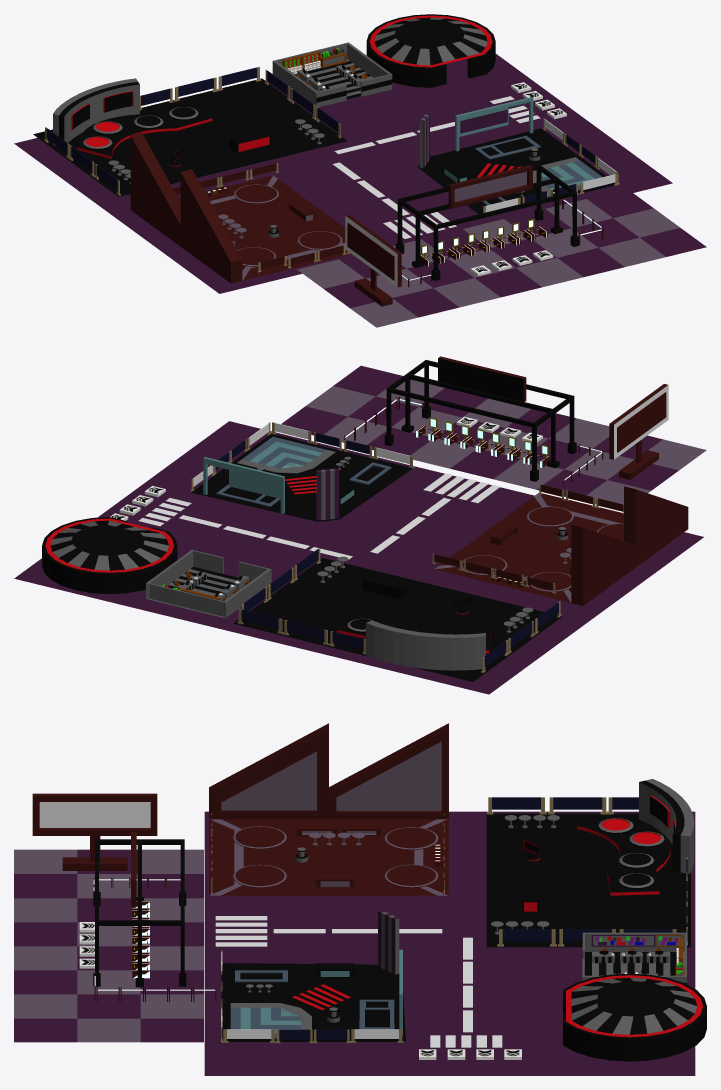
The model's file is Level (05).fbx.
3 renders of one model, top to bottom at view 1: azimuth 30°, elevation 25°; view 2: azimuth 150°, elevation 25°; view 3: azimuth 270°, elevation 25°, orthographic. The views are drawn at different scales.
Visible parts, largest first — view 1: Plane.009, Plane.011, Plane, Circle, Plane.010, Cube.069, Cube.022, Plane.004, Cube.139, Cube.042, Cube.074, Cube (+12 smaller); view 2: Plane.009, Plane.011, Plane, Circle, Plane.010, Cube.069, Plane.004, Cube, Cube.139, Cube.042, Cube.022, Cube.074 (+12 smaller); view 3: Plane.009, Plane.011, Plane, Plane.010, Circle, Cube.042, Cube.022, Plane.004, Cube.074, Cube.069, Cube, Cube.139 (+22 smaller).
Part boxes in pixels (x1=…): Plane.009: x1=14, y1=54, x2=672, y2=293; Plane.011: x1=297, y1=189, x2=706, y2=327; Plane: x1=33, y1=78, x2=346, y2=196; Circle: x1=366, y1=14, x2=495, y2=87; Plane.010: x1=178, y1=175, x2=351, y2=280; Cube.069: x1=395, y1=164, x2=578, y2=280; Cube.022: x1=180, y1=169, x2=242, y2=283; Plane.004: x1=418, y1=128, x2=614, y2=214; Cube.139: x1=272, y1=42, x2=392, y2=107; Cube.042: x1=130, y1=132, x2=180, y2=246; Cube.074: x1=345, y1=215, x2=401, y2=306; Cube: x1=53, y1=78, x2=139, y2=145; Plane.009: x1=14, y1=421, x2=703, y2=694; Plane.011: x1=281, y1=365, x2=706, y2=504; Plane: x1=233, y1=558, x2=562, y2=681; Circle: x1=42, y1=517, x2=177, y2=594; Plane.010: x1=434, y1=493, x2=623, y2=602; Cube.069: x1=384, y1=356, x2=576, y2=481; Plane.004: x1=191, y1=434, x2=412, y2=521; Cube: x1=366, y1=618, x2=485, y2=670; Cube.139: x1=146, y1=549, x2=271, y2=618; Cube.042: x1=571, y1=525, x2=635, y2=605; Cube.022: x1=624, y1=486, x2=688, y2=567; Cube.074: x1=609, y1=384, x2=668, y2=479; Plane.009: x1=204, y1=811, x2=695, y2=1075; Plane.011: x1=14, y1=849, x2=203, y2=1042; Plane: x1=486, y1=813, x2=690, y2=947; Plane.010: x1=209, y1=819, x2=448, y2=895; Circle: x1=563, y1=973, x2=706, y2=1061; Cube.042: x1=329, y1=723, x2=448, y2=819; Cube.022: x1=209, y1=723, x2=328, y2=819; Plane.004: x1=222, y1=963, x2=405, y2=1041; Cube.074: x1=32, y1=793, x2=157, y2=870; Cube.069: x1=93, y1=832, x2=186, y2=987; Cube: x1=639, y1=779, x2=694, y2=873; Cube.139: x1=582, y1=932, x2=686, y2=984.
Bounding box in the file's own units: 4827 × 823 × 5348.
Materials: 27 (3 with a texture image).
